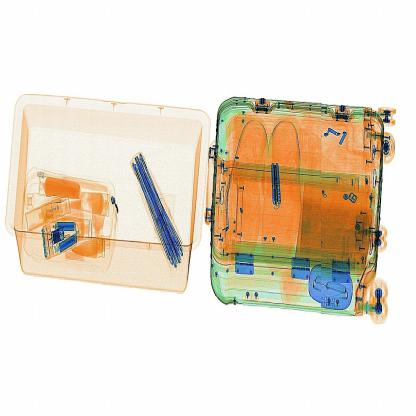scissors: (270, 154, 290, 210)
